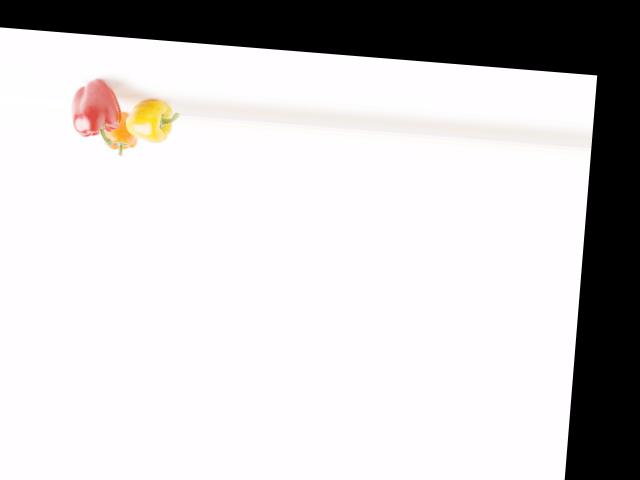bell_pepper: (67, 71, 127, 152)
